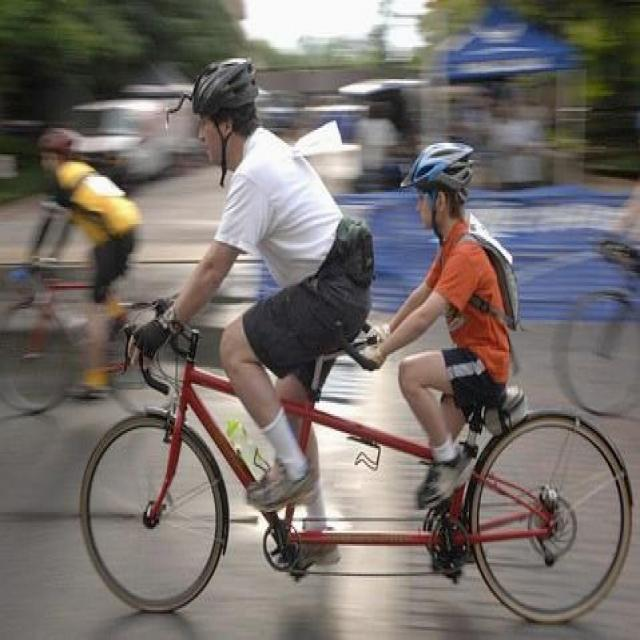bikerider: (72, 49, 629, 634)
